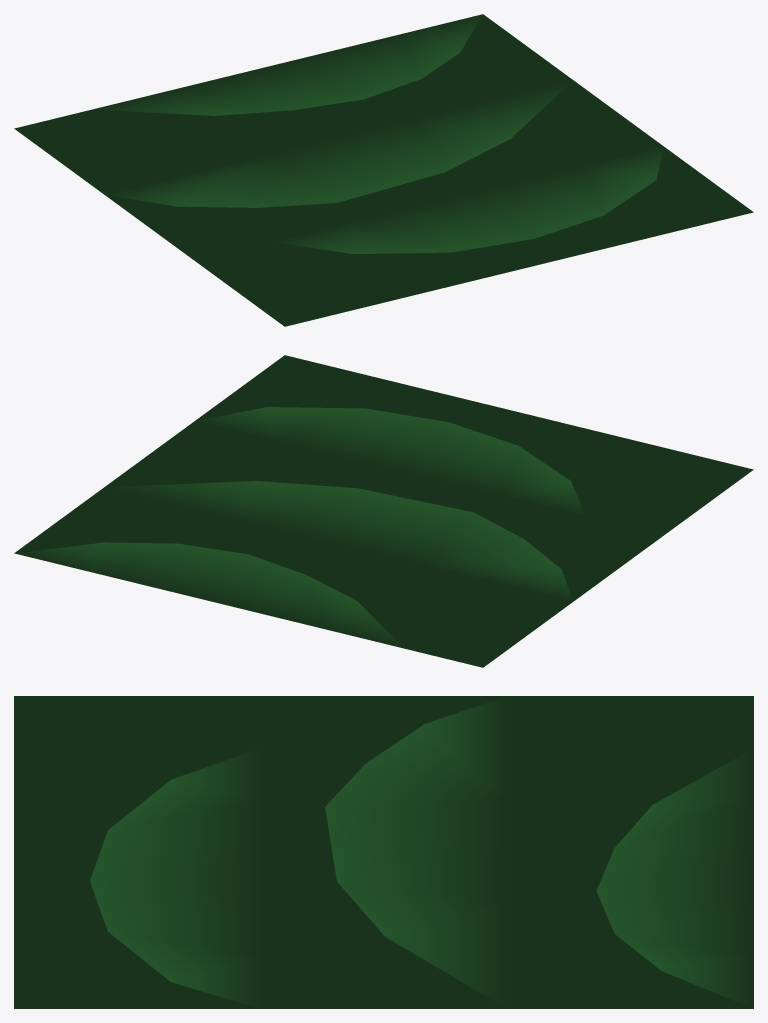
Rendered from terrain_hills.fbx.
3 renders of one model, top to bottom at view 1: azimuth 30°, elevation 25°; view 2: azimuth 150°, elevation 25°; view 3: azimuth 270°, elevation 25°, orthographic. The views are drawn at different scales.
Parts seen in each view (by area): view 1: terrain_hills; view 2: terrain_hills; view 3: terrain_hills.
Part boxes in pixels (<box>): terrain_hills: <box>14,14,753,326</box>; terrain_hills: <box>14,355,753,667</box>; terrain_hills: <box>14,696,753,1008</box>.
Size of the model in its own units: 10 by 1.48e-15 by 10.
